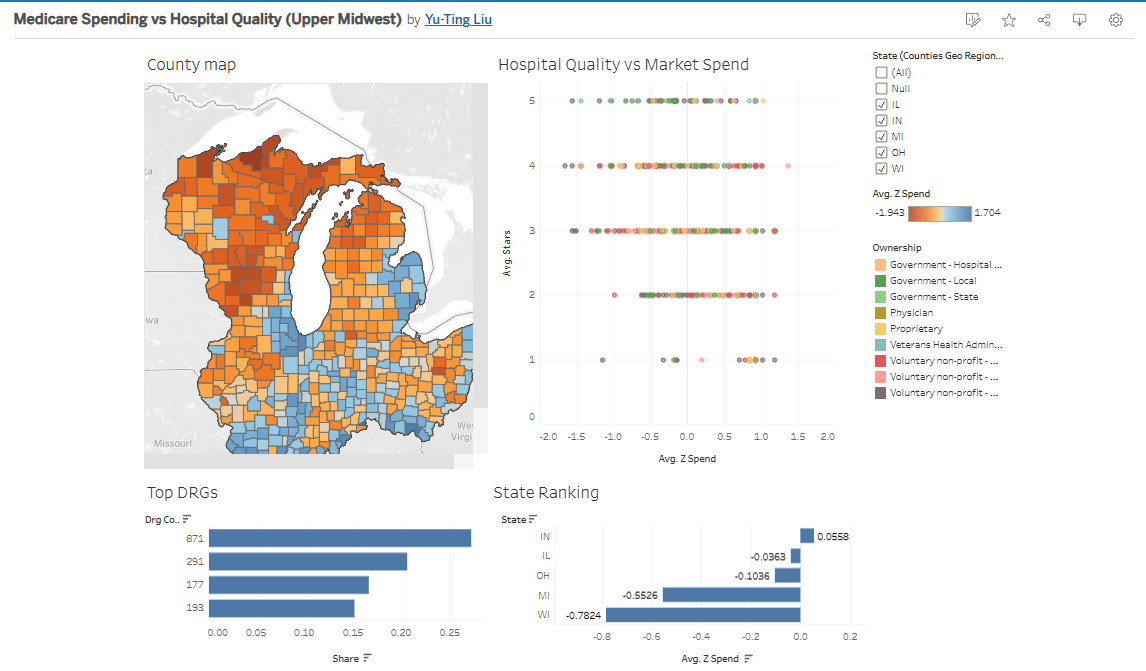

This screenshot's page, from the dashboard's own definition file:
{"tool":"tableau","page":{"name":"Dashboard 1","canvas":[1100,800],"ordinal":0},"visuals":[{"type":"worksheet","title":"County map","mark":"Automatic","box":[8,8,439,534]},{"type":"worksheet","title":"Hospital Quality vs Market Spend","mark":"Automatic","rows":["stars"],"cols":["z_spend"],"box":[447,8,433,534]},{"type":"filter","title":"County map","param":"[federated.1b93y071jk22lz1ba65lr1ai0hog].[none:state (counties_geo_region.json):","box":[919,8,173,197]},{"type":"legend","title":"County map","param":"[federated.1b93y071jk22lz1ba65lr1ai0hog].[avg:z_spend:qk]","box":[919,205,173,73]},{"type":"legend","title":"Hospital Quality vs Market Spend","param":"[federated.1b93y071jk22lz1ba65lr1ai0hog].[none:ownership:nk]","box":[919,278,173,219]},{"type":"worksheet","title":"Top DRGs","mark":"Automatic","rows":["drg_code"],"cols":["share"],"box":[8,542,433,250]},{"type":"worksheet","title":"State Ranking","mark":"Automatic","rows":["state"],"cols":["z_spend"],"box":[441,542,478,250]}]}

Visuals, with their boxes on the page's 1100x800 design canvas (x1, y1, x2, y2). These are canvas units, not pixel positions in the 1146x671 screenshot, which may show the page scaled, cropped or inside an application window:
"County map" worksheet: select_region(8, 8, 447, 542)
"Hospital Quality vs Market Spend" worksheet: select_region(447, 8, 880, 542)
"County map" filter: select_region(919, 8, 1092, 205)
"County map" legend: select_region(919, 205, 1092, 278)
"Hospital Quality vs Market Spend" legend: select_region(919, 278, 1092, 497)
"Top DRGs" worksheet: select_region(8, 542, 441, 792)
"State Ranking" worksheet: select_region(441, 542, 919, 792)
